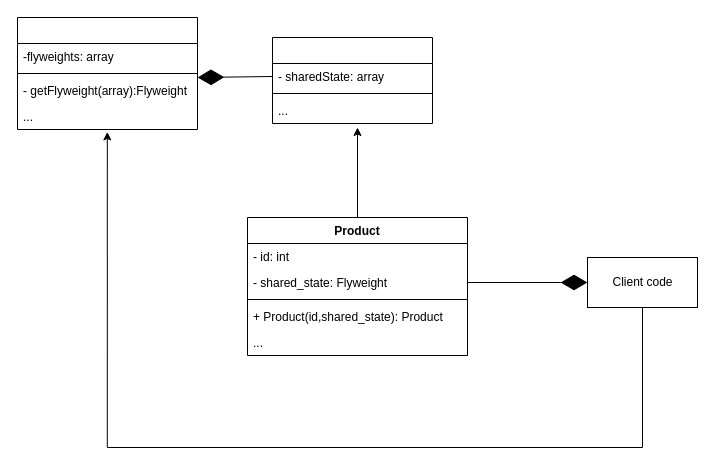
The diagram is 715 pixels wide and 473 high, and some of its shapes have lost their labels. The box of each missing label's shape, as (x1, y1, x2, y2) in pixels:
Flyweight: (272, 36, 432, 124)
FlyweightFactory: (16, 16, 198, 130)
